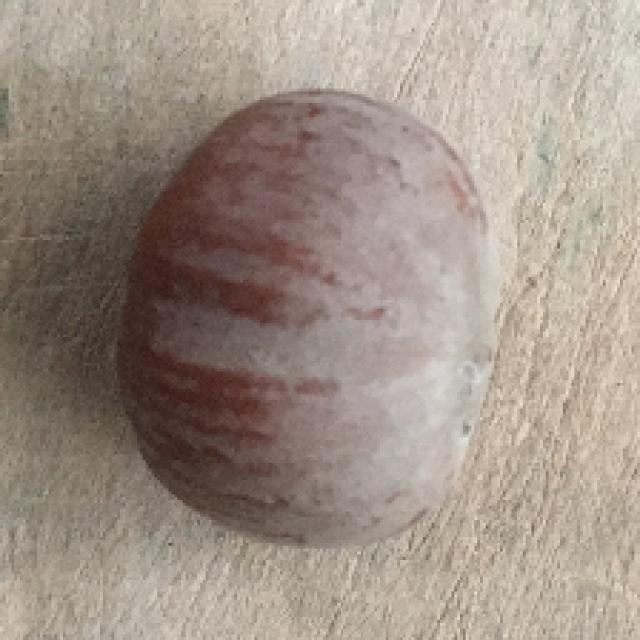qualityHazelnut: (114, 80, 495, 548)
